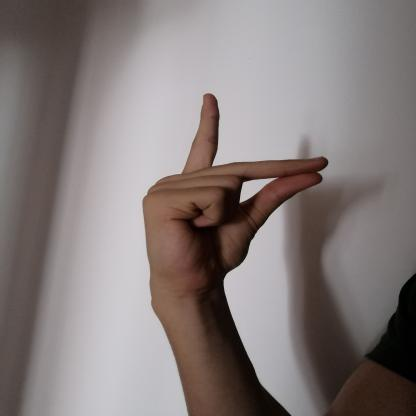TAA: (127, 87, 340, 300)
